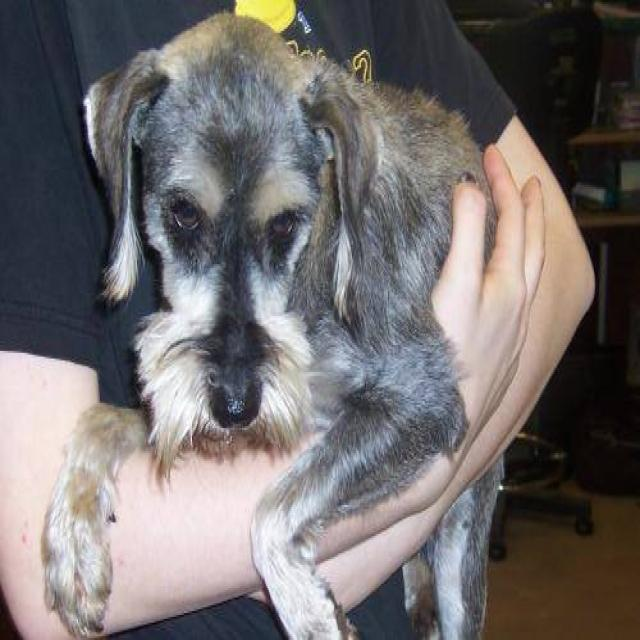dog: (39, 10, 506, 638)
